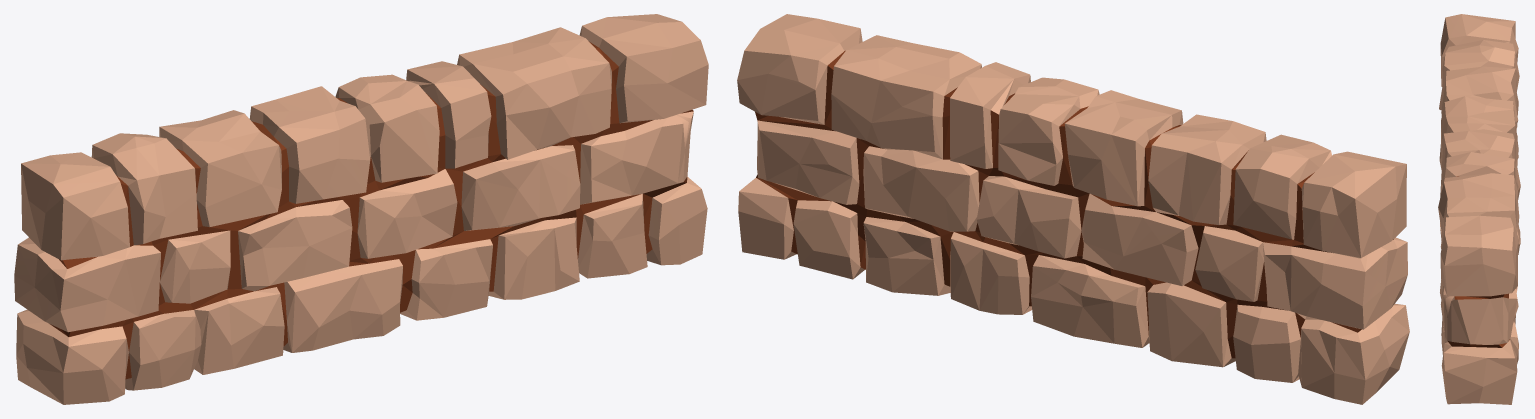
Rendered from Wall_Straight_V01.fbx.
The picture shows the model from 3 angles, left to right: view 1: azimuth 30°, elevation 25°; view 2: azimuth 150°, elevation 25°; view 3: azimuth 270°, elevation 25°; orthographic projection. The views are drawn at different scales.
Visible parts, largest first — view 1: Wall_Straight_V01; view 2: Wall_Straight_V01; view 3: Wall_Straight_V01.
Part boxes in pixels (x1,y1,x2,y2): Wall_Straight_V01: (14,14,708,404); Wall_Straight_V01: (737,14,1409,404); Wall_Straight_V01: (1438,14,1520,404).
Size of the model in its own units: 222 by 75.15 by 33.04.
